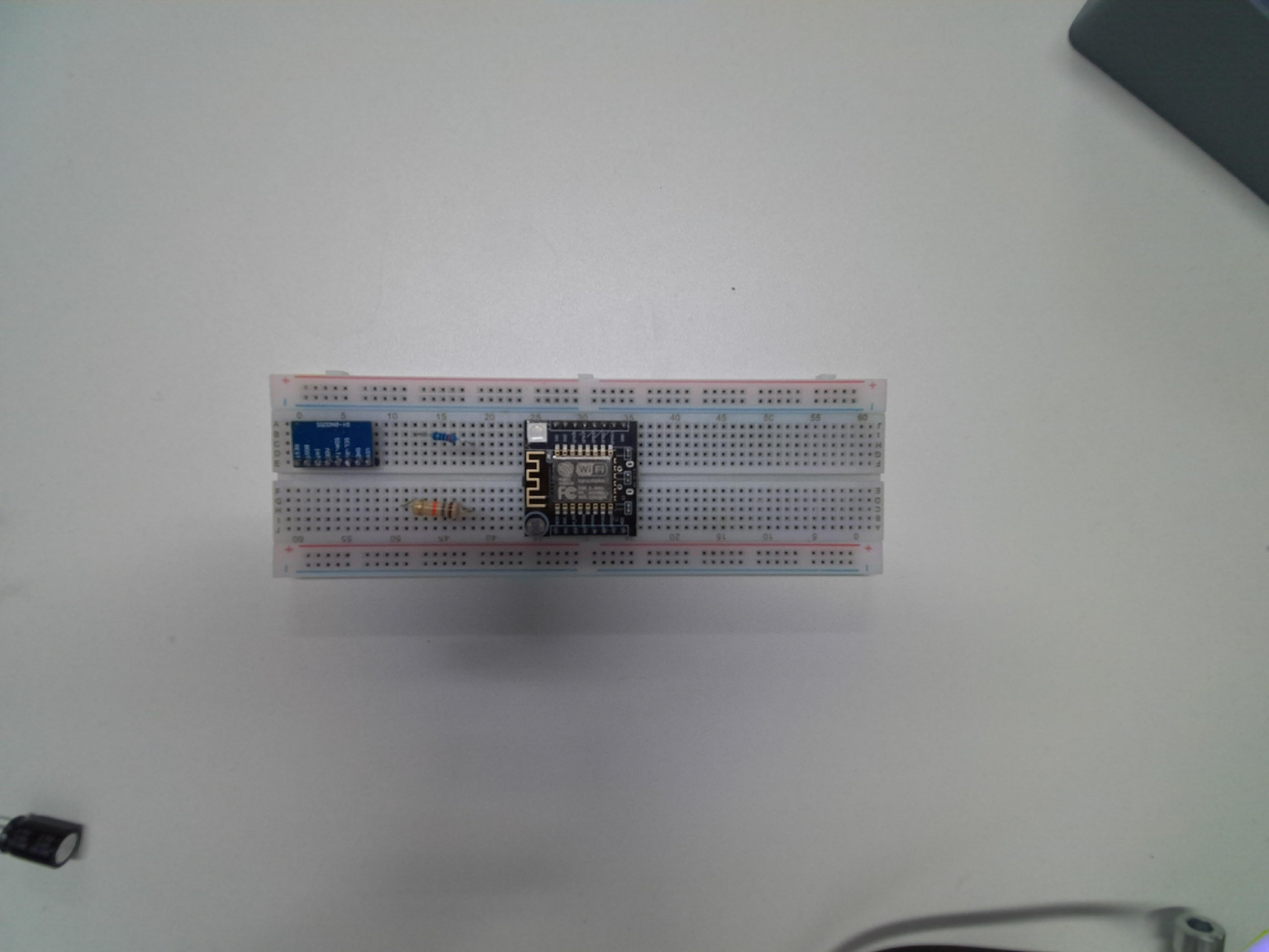base: (268, 375, 889, 584)
blue-board: (287, 418, 379, 470)
capacitor: (0, 809, 90, 869)
esp: (522, 416, 639, 540)
resistor-big: (408, 497, 477, 521)
resistor-small: (428, 421, 465, 449)
